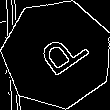P_SW: (26, 25, 88, 84)
